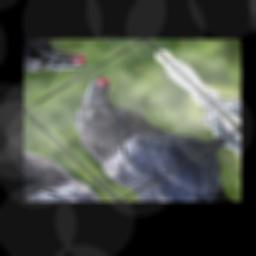Crow: (38, 45, 239, 196)
